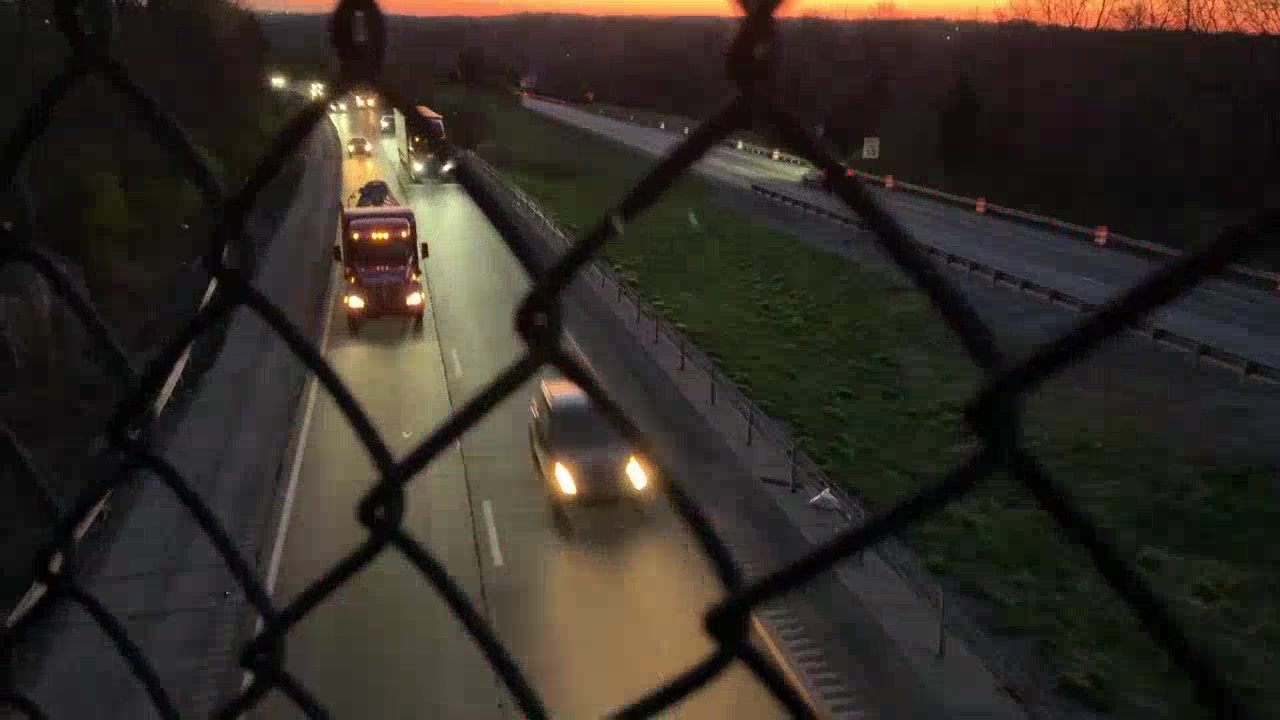heavyTruck: (326, 156, 433, 336), (388, 104, 460, 185)
smallCar: (521, 380, 661, 535), (343, 137, 378, 160)
